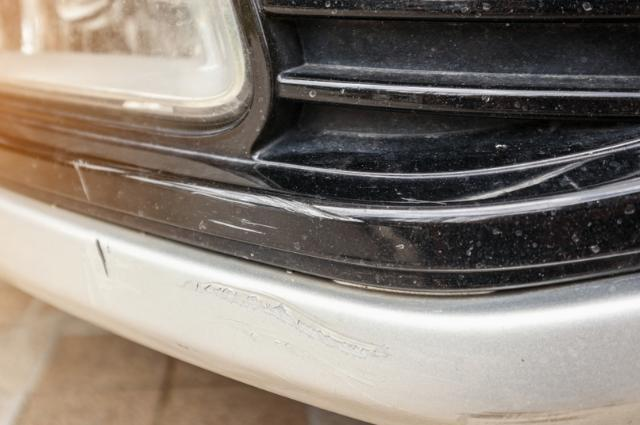Bumper: (39, 146, 408, 372)
